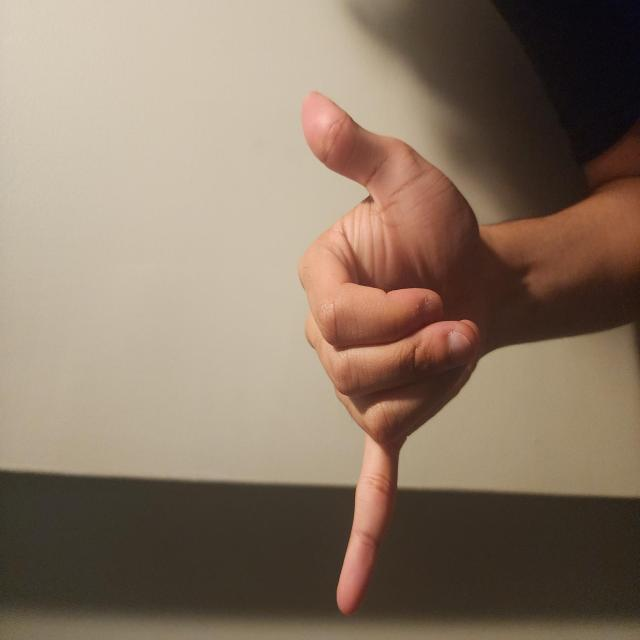Y: (14, 393, 418, 640)
